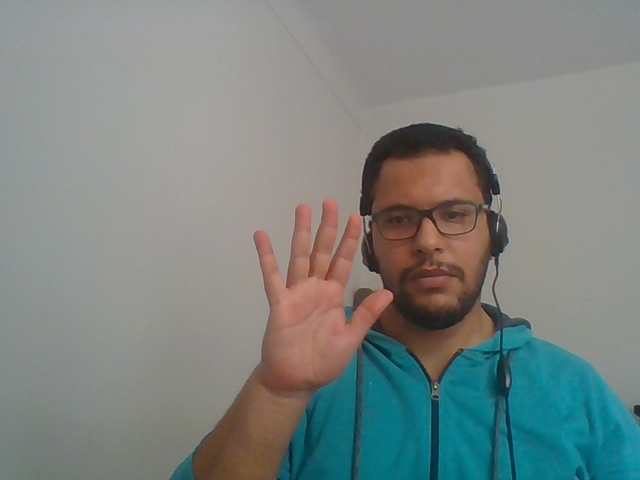hello: (216, 181, 402, 454)
